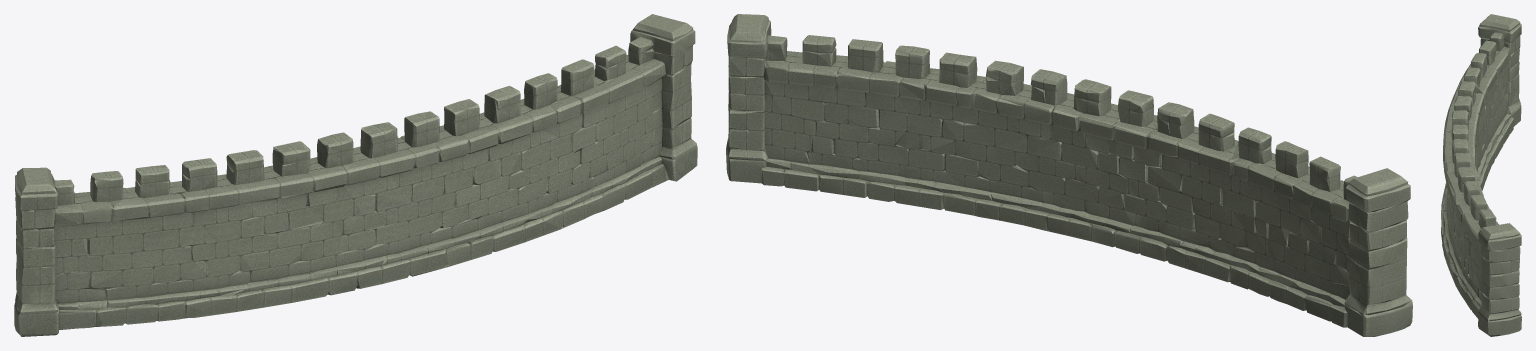
The model's file is inner_wall_segment.glb.
The picture shows the model from 3 angles, left to right: view 1: azimuth 30°, elevation 25°; view 2: azimuth 150°, elevation 25°; view 3: azimuth 270°, elevation 25°; orthographic projection. The views are drawn at different scales.
Parts seen in each view (by area): view 1: output_unwrapped; view 2: output_unwrapped; view 3: output_unwrapped.
Boxes of the visible parts, left/top/right/bottom form: output_unwrapped: left=14, top=14, right=697, bottom=336; output_unwrapped: left=726, top=14, right=1412, bottom=336; output_unwrapped: left=1441, top=14, right=1521, bottom=336.
Size of the model in its own units: 1.9 by 0.4054 by 0.2867.
Materials: 1 (1 with a texture image).
